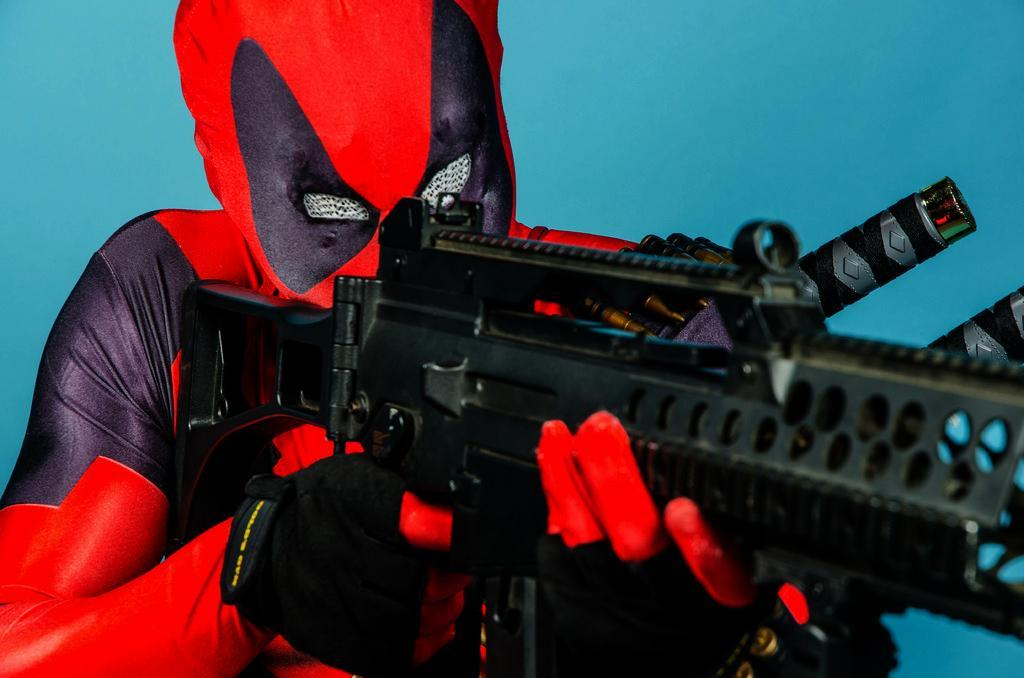gun: (184, 186, 1024, 632)
